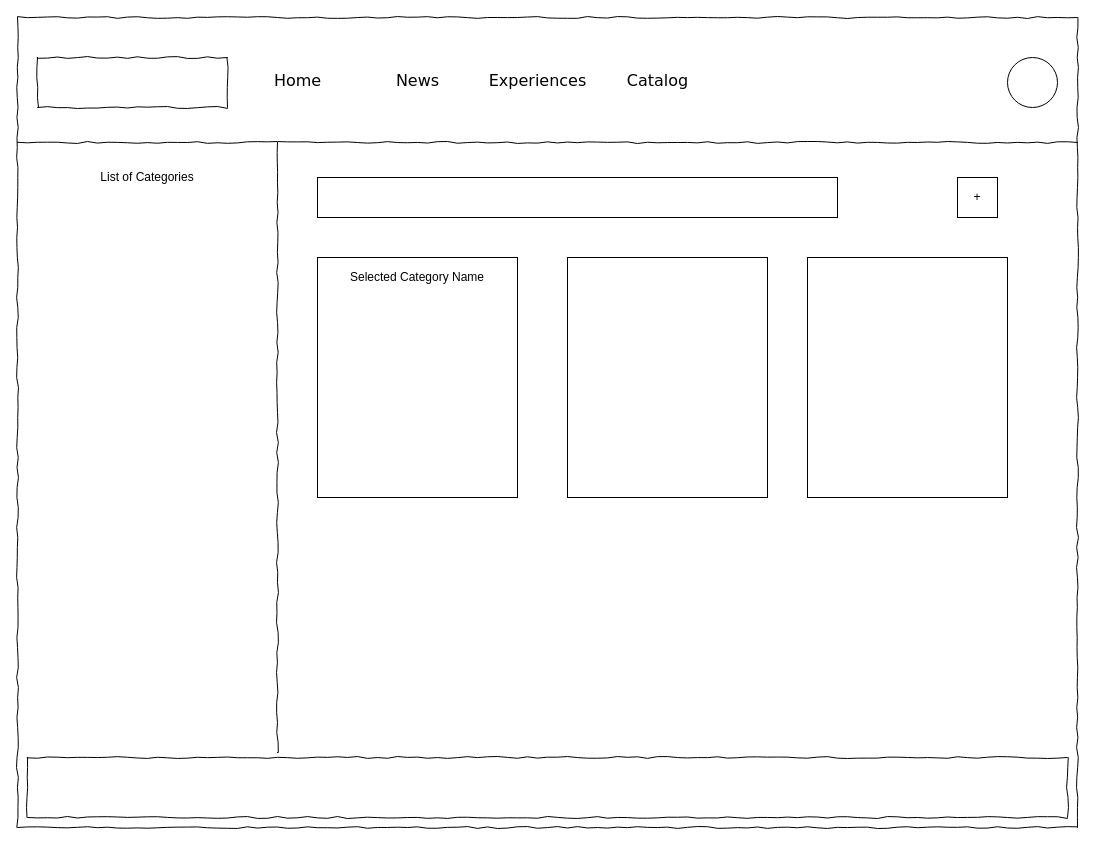
Some shapes in this 1095 by 845 pixel diagram are drawn without their labels. Each missing label, with the centre of its shape:
"LOGO" belongs at (132,82).
"Search" belongs at (577,197).
